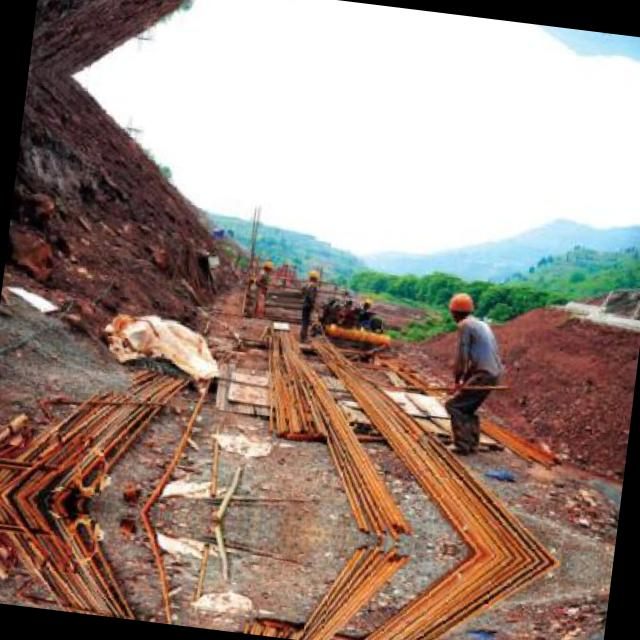helmet: (445, 286, 480, 327), (304, 264, 325, 286), (258, 256, 280, 276), (360, 292, 377, 311)
